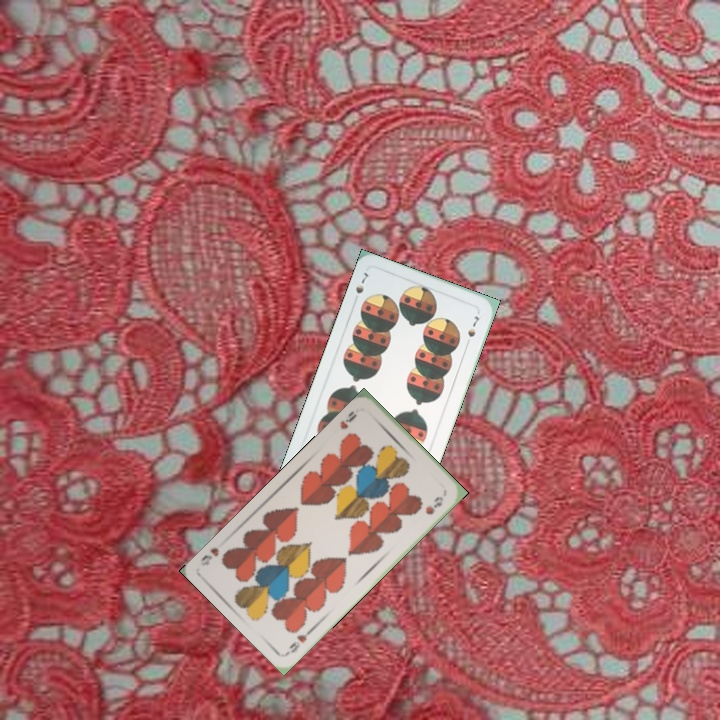H9: (282, 624, 316, 657), (336, 407, 360, 432)
S7: (349, 268, 371, 306)
